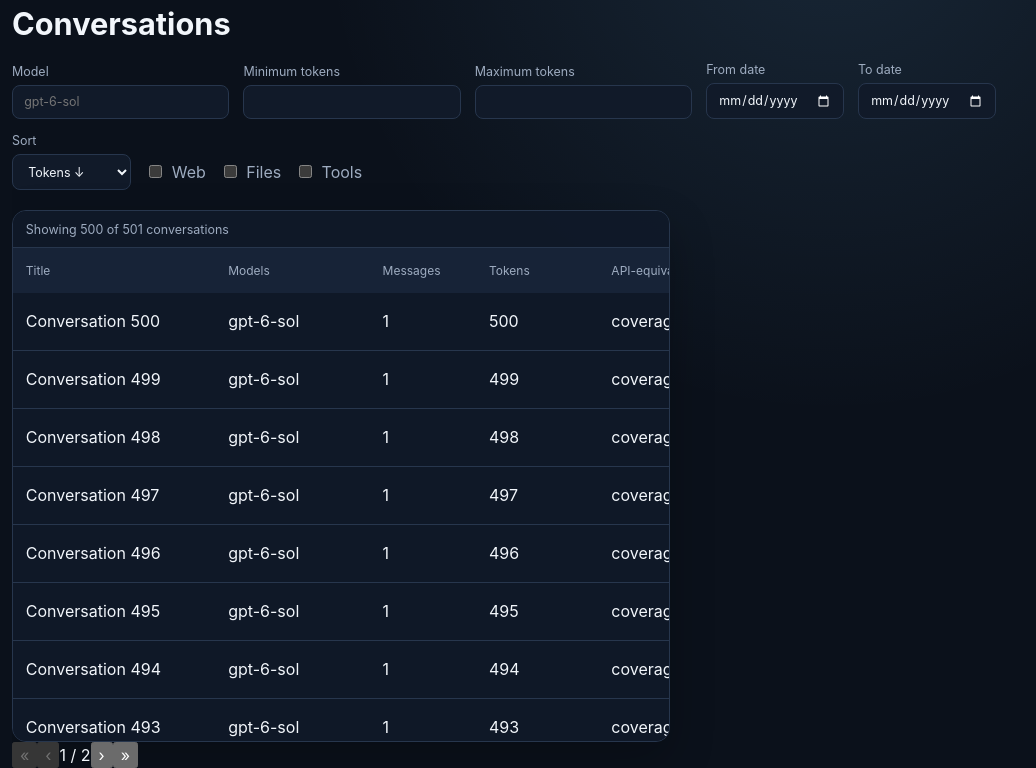
Scenario: Codex review UI regressions › paginates actual IndexedDB conversation results without loading every row into the UI
The width and height of the screenshot is (1036, 768).
(page scrolled)
Check: the text "Showing 500 of 501 conversations" is shown, box [13,211,669,248]
Check: the text "1 / 2" is shown, box [60,745,90,765]
Click the button "»" at {"x": 125, "y": 755}, box [113,742,138,767]
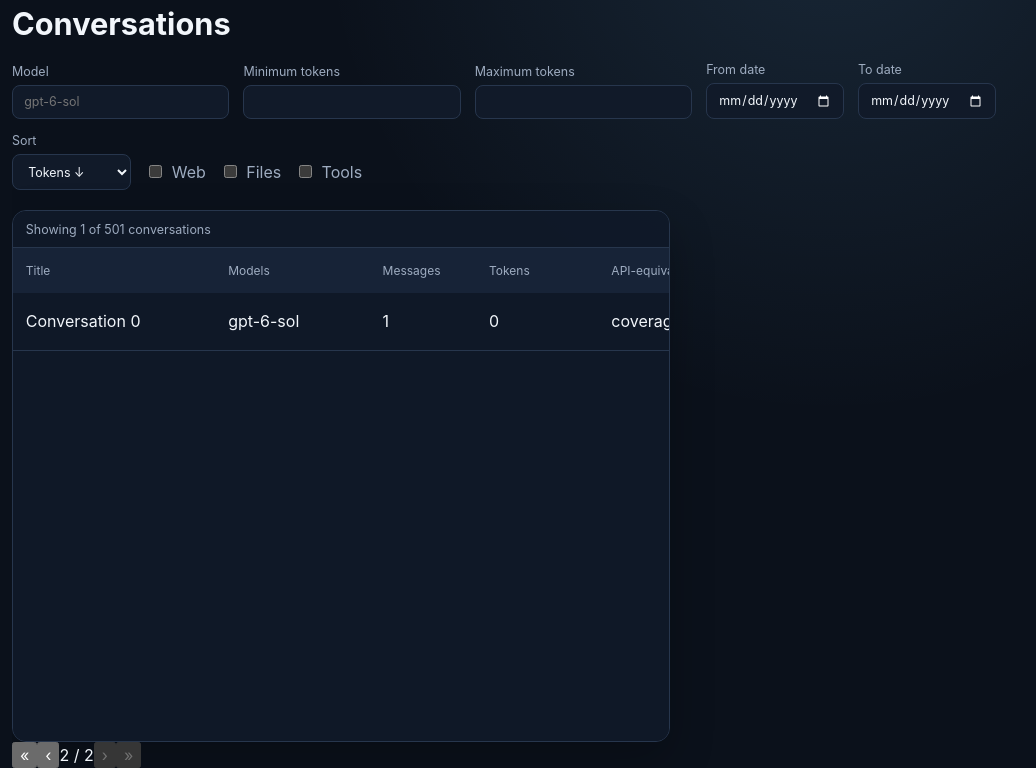
Check: the text "Showing 1 of 501 conversations" is shown, box [13,211,669,248]
Check: the text "2 / 2" is shown, box [60,745,94,765]
